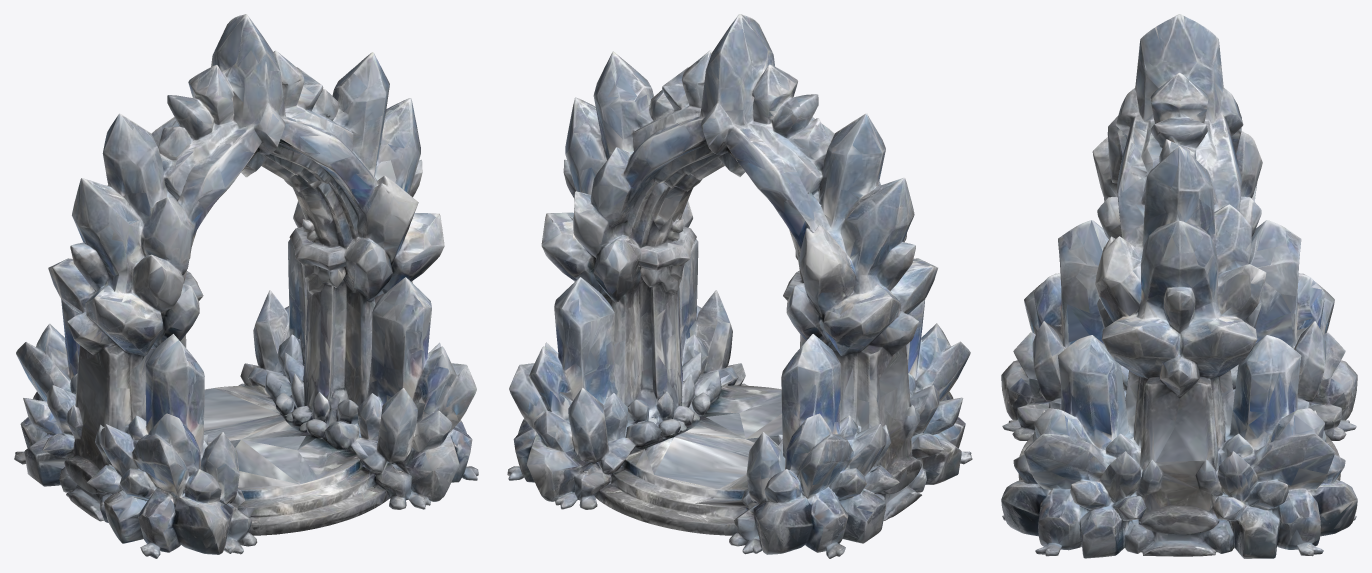
The model's file is Crystal_Gate_of_Light.glb.
3 renders of one model, left to right at view 1: azimuth 30°, elevation 25°; view 2: azimuth 150°, elevation 25°; view 3: azimuth 270°, elevation 25°, orthographic.
Parts seen in each view (by area): view 1: Crystal_Gate_of_Light; view 2: Crystal_Gate_of_Light; view 3: Crystal_Gate_of_Light.
Boxes of the visible parts, x1,y1,x2,y2 form: Crystal_Gate_of_Light: (14, 14, 478, 558); Crystal_Gate_of_Light: (507, 14, 972, 558); Crystal_Gate_of_Light: (1001, 14, 1357, 558).
Size of the model in its own units: 1.59 by 1.9 by 1.33.
1 material, 1 textured.
